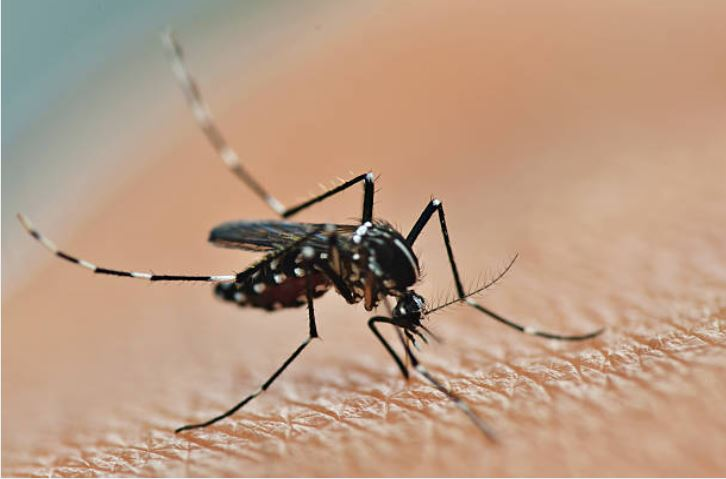dengue_mosquito: (17, 167, 557, 382)
